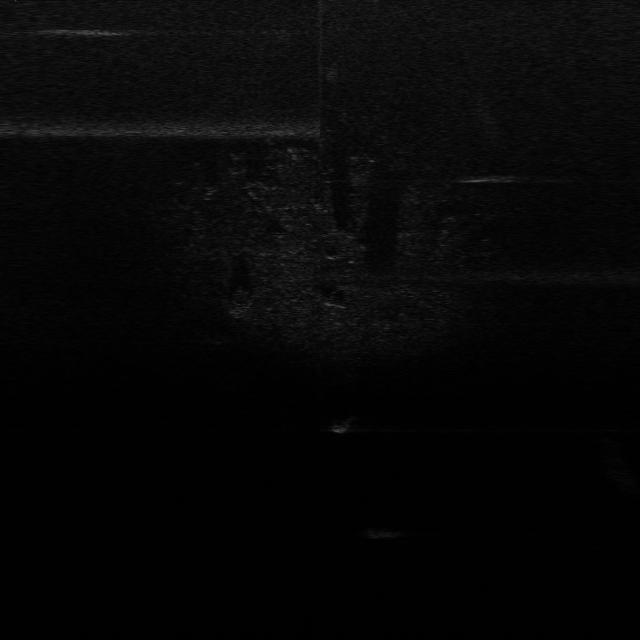cube: (364, 522, 406, 546)
square cage: (324, 411, 367, 439)
